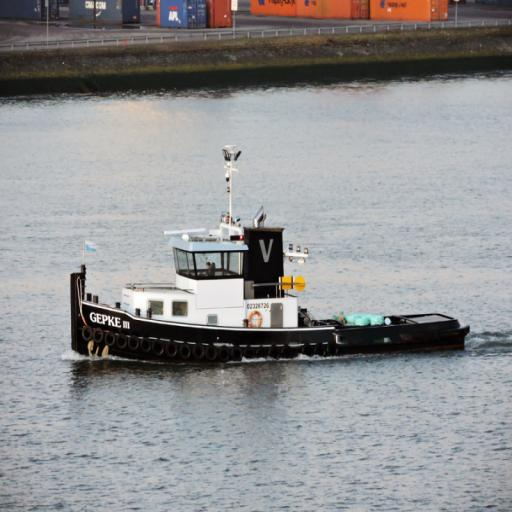tugboat: (67, 212, 476, 381)
